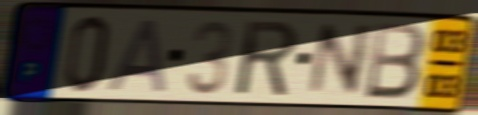0: (61, 12, 114, 95)
3: (185, 17, 234, 96)
A: (105, 16, 171, 95)
B: (362, 20, 429, 103)
N: (304, 21, 376, 99)
R: (235, 18, 301, 99)
